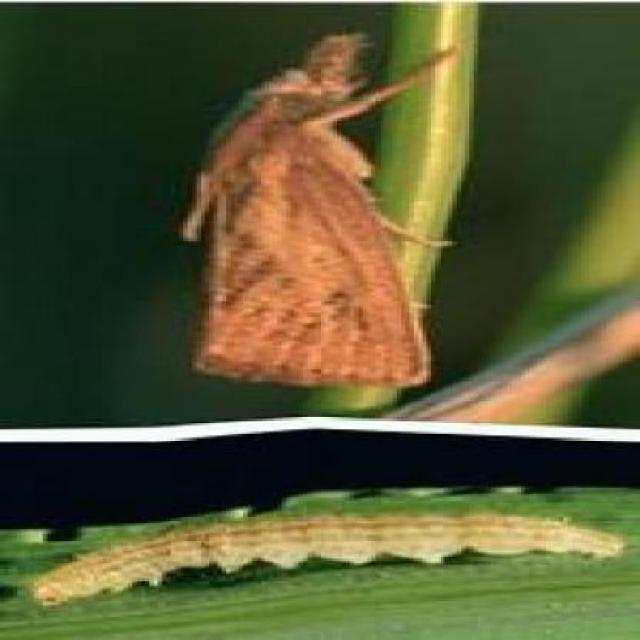stem-borer: (168, 31, 462, 392)
